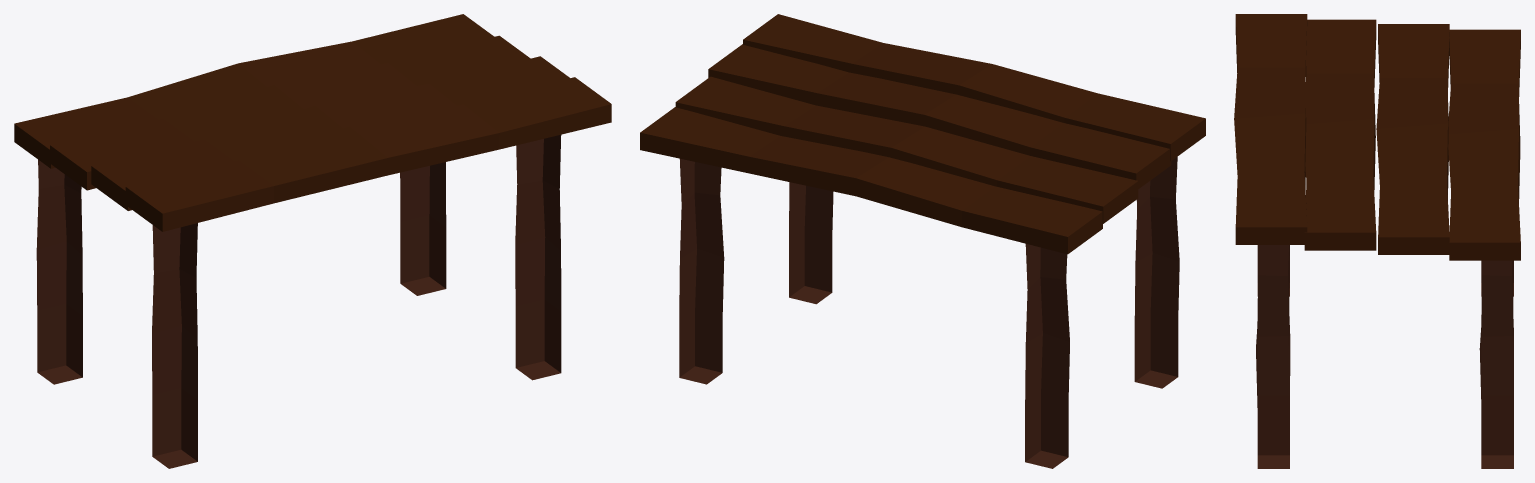
The model's file is table.fbx.
3 views of the same model, side by side, from view 1: azimuth 30°, elevation 25°; view 2: azimuth 150°, elevation 25°; view 3: azimuth 270°, elevation 25° (orthographic). The views are drawn at different scales.
Visible parts, largest first — view 1: Plateau, Pieds; view 2: Plateau, Pieds; view 3: Plateau, Pieds.
Part boxes in pixels (left/top/right/bottom): Plateau: left=14, top=14, right=611, bottom=231; Pieds: left=36, top=134, right=561, bottom=468; Plateau: left=640, top=14, right=1205, bottom=254; Pieds: left=679, top=157, right=1179, bottom=468; Plateau: left=1234, top=14, right=1520, bottom=260; Pieds: left=1256, top=245, right=1513, bottom=468.
Bounding box in the file's own units: 718 × 416 × 405.
